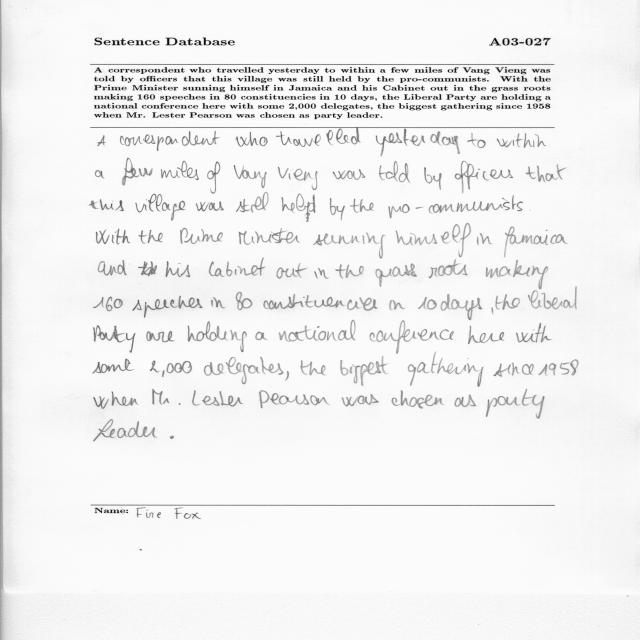word: (388, 195, 517, 218), (369, 320, 454, 354), (408, 353, 484, 387), (396, 224, 471, 258), (376, 129, 460, 157), (204, 357, 284, 384), (486, 255, 548, 289), (120, 131, 220, 151), (263, 294, 378, 311), (313, 232, 385, 259), (455, 161, 513, 193), (188, 321, 247, 352), (486, 389, 545, 419), (279, 320, 356, 342), (276, 128, 361, 147), (132, 296, 203, 318), (340, 356, 388, 386), (94, 420, 157, 442), (136, 194, 186, 221), (505, 226, 567, 247), (259, 391, 330, 409), (94, 325, 136, 353), (441, 294, 483, 320), (209, 258, 265, 277), (239, 228, 300, 245), (282, 193, 316, 222), (376, 263, 417, 287), (392, 391, 444, 409), (528, 290, 577, 309), (278, 167, 318, 190), (192, 390, 243, 407), (122, 158, 152, 186), (94, 391, 138, 409), (234, 165, 267, 188), (429, 260, 468, 279), (497, 133, 546, 148), (161, 161, 199, 180), (516, 323, 551, 343), (525, 165, 566, 182), (538, 359, 579, 376), (180, 228, 223, 244), (379, 161, 410, 183), (150, 361, 192, 377), (236, 193, 269, 213), (468, 326, 504, 344), (93, 359, 135, 374), (493, 362, 534, 377), (97, 228, 131, 245), (235, 132, 268, 147), (277, 263, 307, 279), (98, 260, 127, 276), (152, 389, 181, 405), (342, 394, 379, 406), (335, 264, 364, 279), (94, 297, 123, 312), (208, 161, 221, 194), (424, 167, 442, 190), (90, 199, 124, 211), (166, 261, 191, 277), (495, 294, 520, 310), (300, 361, 326, 376), (333, 169, 365, 180), (138, 230, 163, 244), (350, 199, 374, 213), (330, 198, 345, 220), (146, 331, 174, 342), (236, 292, 253, 310), (467, 133, 486, 148), (138, 261, 157, 276), (196, 202, 224, 212), (454, 395, 476, 407), (418, 297, 437, 310), (477, 233, 492, 245), (314, 268, 329, 279), (389, 300, 405, 310), (212, 297, 226, 308), (255, 332, 268, 340), (97, 136, 106, 147), (95, 170, 105, 179), (517, 202, 523, 212), (285, 371, 289, 381), (492, 307, 494, 314), (170, 436, 174, 439)
